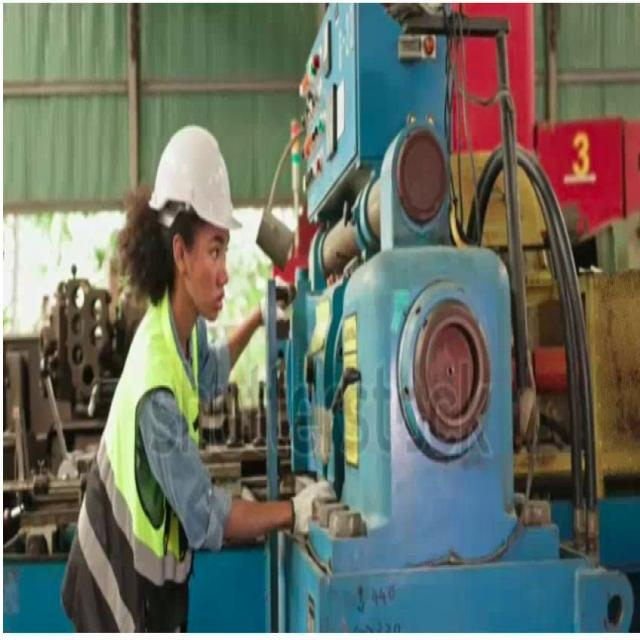gloved: (290, 476, 336, 538), (259, 276, 296, 326)
